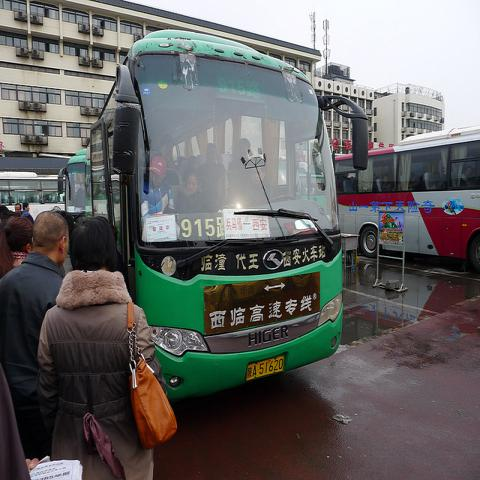bus: (88, 27, 367, 401), (338, 126, 480, 273)
